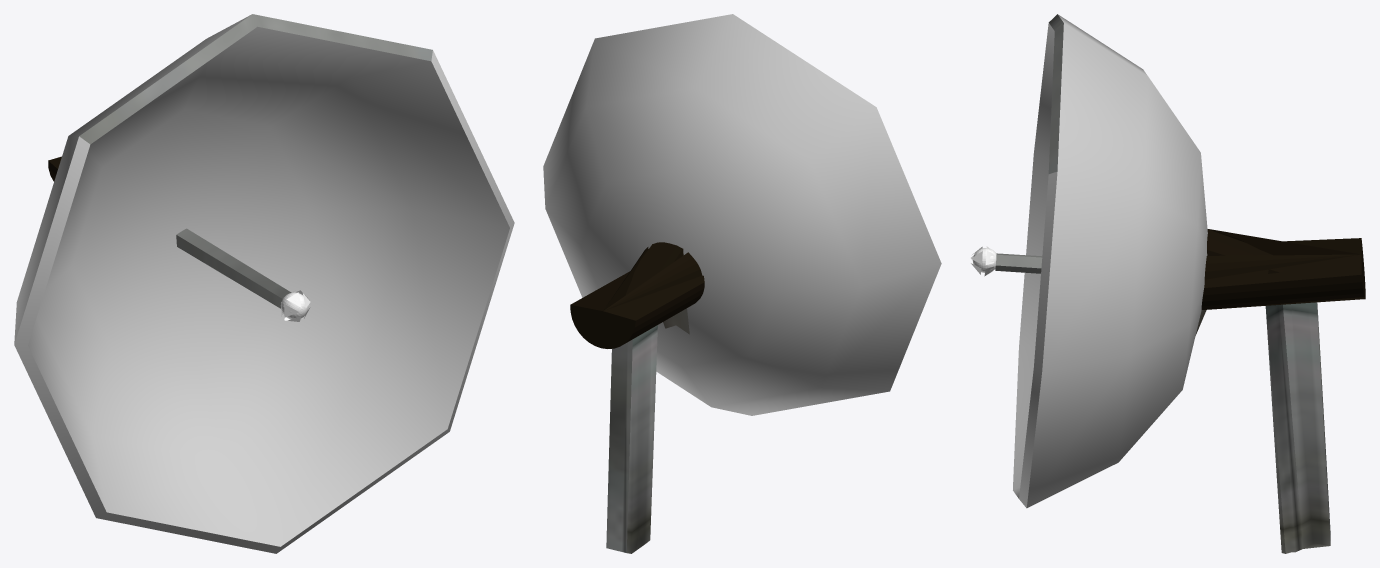
Rendered from parabolic.glb.
The picture shows the model from 3 angles, left to right: view 1: azimuth 30°, elevation 25°; view 2: azimuth 150°, elevation 25°; view 3: azimuth 270°, elevation 25°; orthographic projection. The views are drawn at different scales.
Visible parts, largest first — view 1: Antena_Ban_0.020, Antena_Ban_0.021; view 2: Antena_Ban_0.020, parabolic, Cylinder; view 3: Antena_Ban_0.020, parabolic, Cylinder, Antena_Ban_0.021.
Boxes of the visible parts, x1=… form: Antena_Ban_0.020: x1=14, y1=14, x2=514, y2=553; Antena_Ban_0.021: x1=176, y1=228, x2=310, y2=321; Antena_Ban_0.020: x1=543, y1=14, x2=941, y2=415; parabolic: x1=606, y1=325, x2=657, y2=553; Cylinder: x1=570, y1=242, x2=704, y2=348; Antena_Ban_0.020: x1=1013, y1=14, x2=1207, y2=508; parabolic: x1=1265, y1=302, x2=1330, y2=553; Cylinder: x1=1201, y1=229, x2=1365, y2=309; Antena_Ban_0.021: x1=970, y1=246, x2=1042, y2=276.
Bounding box in the file's own units: 0.4393 × 0.4824 × 0.3295.
5 materials, 1 textured.
